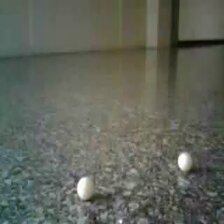w: (76, 177, 95, 200), (177, 152, 193, 172)
